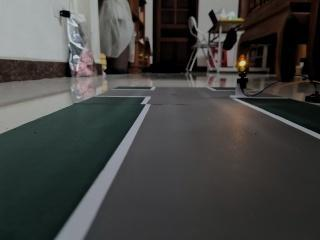yellow: (234, 48, 253, 79)
